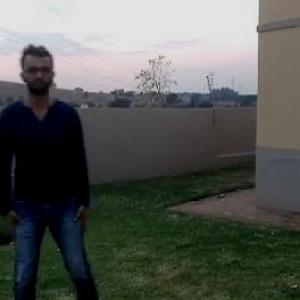follow: (14, 40, 100, 299)
